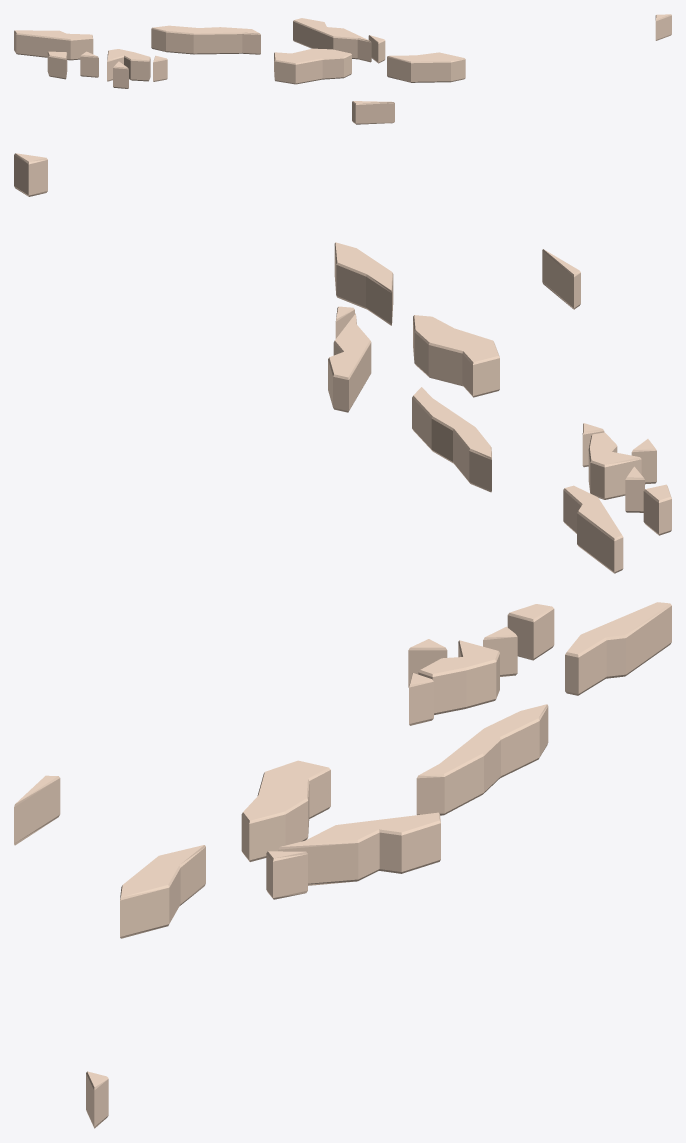
Rendered from SLB.glb.
The picture shows the model from 3 angles, top to bottom: view 1: azimuth 30°, elevation 25°; view 2: azimuth 150°, elevation 25°; view 3: azimuth 270°, elevation 25°; orthographic projection. The views are drawn at different scales.
Size of the model in its own units: 1.71 by 0.068 by 0.9792.
